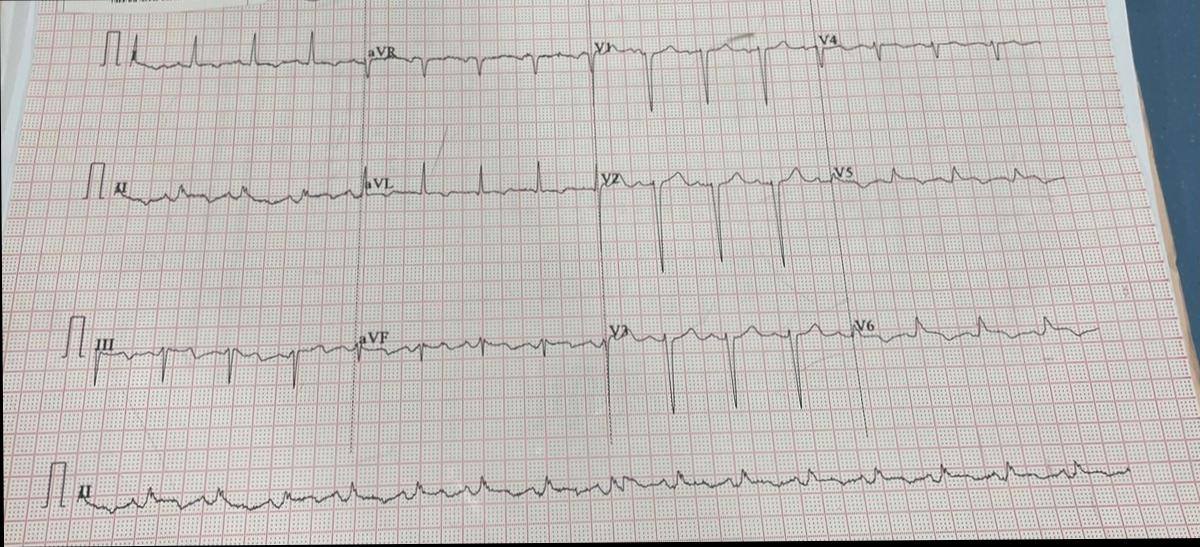Lead_I: (123, 22, 367, 96)
Lead_II: (106, 154, 365, 224)
Lead_III: (87, 322, 358, 401)
Lead_II_ext: (72, 449, 1153, 529)
Lead_V1: (590, 24, 820, 128)
Lead_V2: (597, 150, 834, 283)
Lead_V3: (605, 304, 854, 431)
Lead_V4: (818, 15, 1048, 83)
Lead_V5: (831, 145, 1069, 212)
Lead_V6: (855, 297, 1114, 369)
Lead_aVF: (354, 310, 610, 381)
Lead_aVL: (362, 152, 598, 224)
Lead_aVR: (364, 22, 594, 108)
